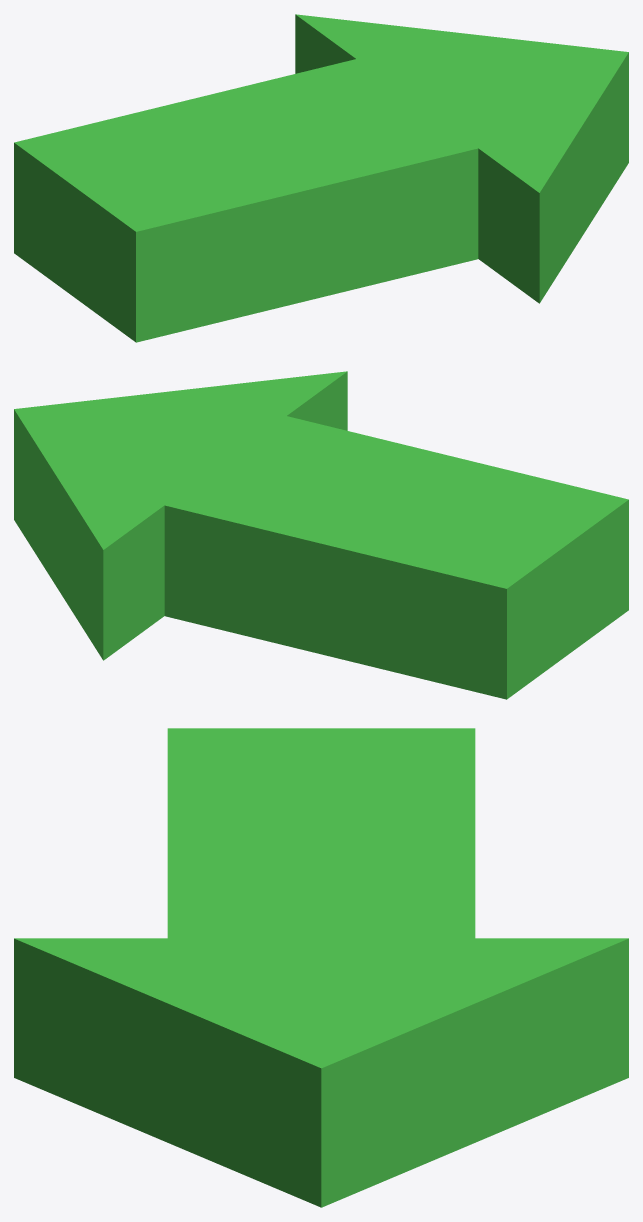
The model's file is arrow.obj.
3 renders of one model, top to bottom at view 1: azimuth 30°, elevation 25°; view 2: azimuth 150°, elevation 25°; view 3: azimuth 270°, elevation 25°, orthographic. The views are drawn at different scales.
Parts seen in each view (by area): view 1: Mesh1 Model; view 2: Mesh1 Model; view 3: Mesh1 Model.
Boxes of the visible parts, x1,y1,x2,y2 form: Mesh1 Model: [14, 14, 628, 342]; Mesh1 Model: [14, 371, 628, 699]; Mesh1 Model: [14, 728, 628, 1207].
Bounding box in the file's own units: 159 × 30.38 × 122.
